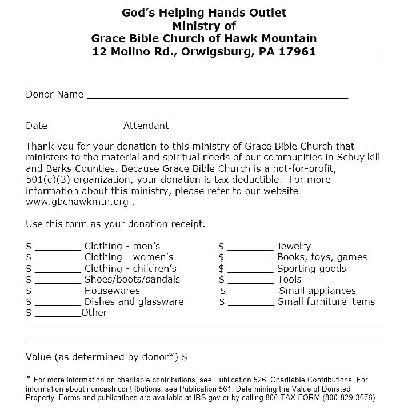textline: (24, 320, 382, 333), (85, 85, 351, 102), (22, 330, 382, 342), (170, 115, 352, 133), (186, 350, 371, 366), (48, 117, 123, 133), (33, 241, 83, 253), (32, 264, 84, 275), (32, 275, 84, 286), (32, 286, 84, 297), (32, 297, 84, 308), (32, 308, 84, 319), (224, 242, 276, 253), (224, 253, 276, 264), (224, 264, 276, 275), (225, 274, 277, 285), (225, 286, 277, 297), (225, 297, 277, 308), (33, 253, 85, 263)
